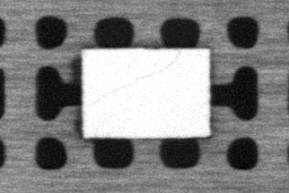DIE_CRACK: (96, 52, 180, 101)
